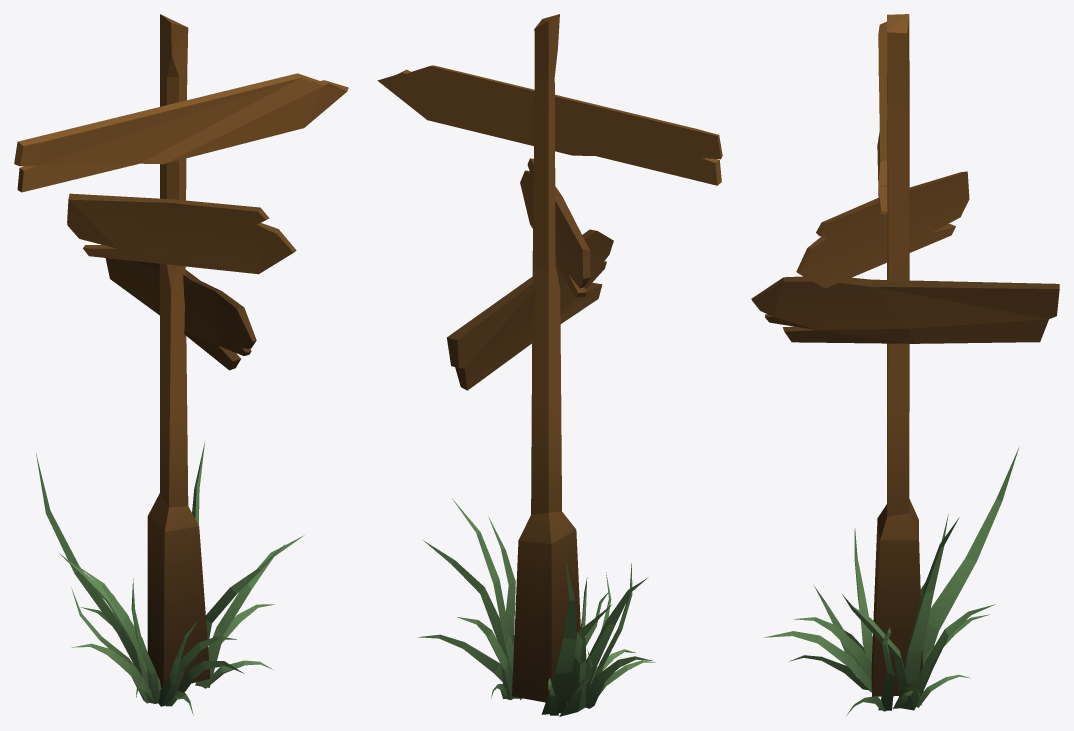
File: RoadSign-01.FBX
The picture shows the model from 3 angles, left to right: view 1: azimuth 30°, elevation 25°; view 2: azimuth 150°, elevation 25°; view 3: azimuth 270°, elevation 25°; orthographic projection. The views are drawn at different scales.
Visible parts, largest first — view 1: RoadSign-01; view 2: RoadSign-01; view 3: RoadSign-01.
Part boxes in pixels (<box>): RoadSign-01: <box>14,14,348,715</box>; RoadSign-01: <box>377,14,722,716</box>; RoadSign-01: <box>751,14,1059,715</box>.
Size of the model in its own units: 139 by 268 by 110.
Materials: 1 (1 with a texture image).
